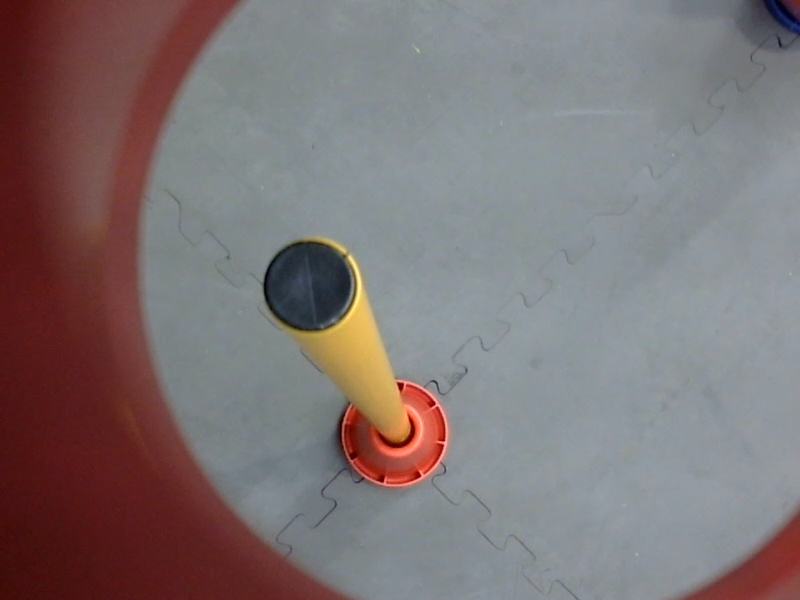tip: (255, 233, 367, 340)
